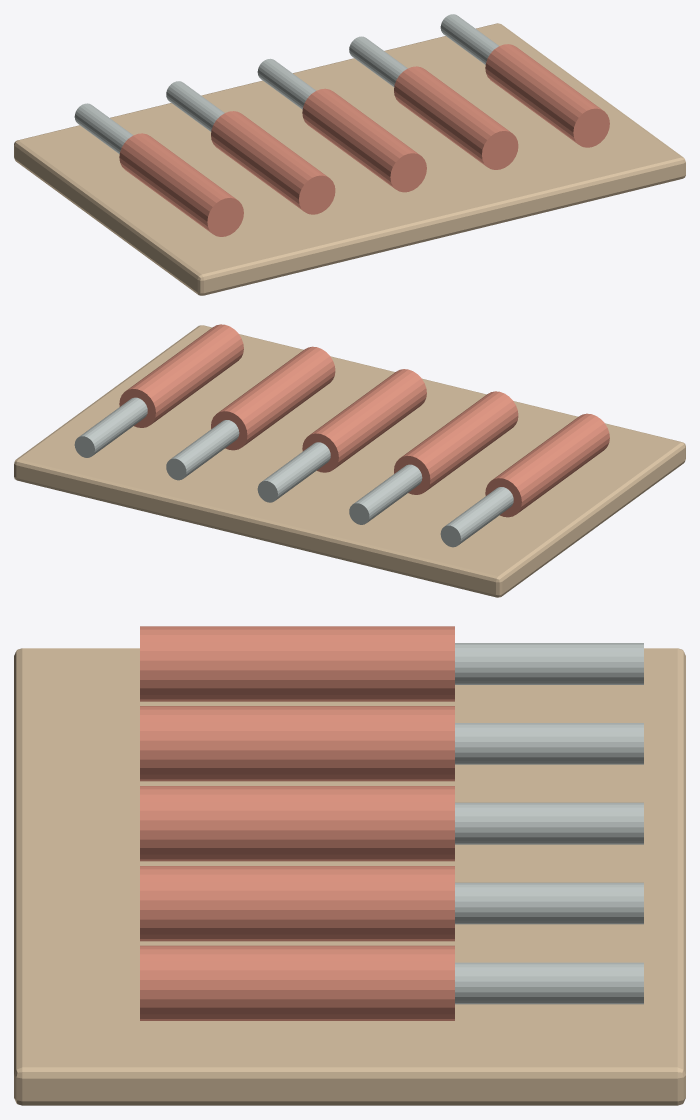
The picture shows the model from 3 angles, top to bottom: view 1: azimuth 30°, elevation 25°; view 2: azimuth 150°, elevation 25°; view 3: azimuth 270°, elevation 25°; orthographic projection. The views are drawn at different scales.
Parts seen in each view (by area): view 1: canvas roll, tool handle, tool handle.004, tool handle.002, tool handle.001, tool handle.003, tool shank.003, tool shank, tool shank.004, tool shank.001, tool shank.002; view 2: canvas roll, tool handle.002, tool handle.004, tool handle, tool handle.001, tool handle.003, tool shank.002, tool shank.001, tool shank.003, tool shank.004, tool shank; view 3: canvas roll, tool handle, tool handle.001, tool handle.002, tool handle.003, tool handle.004, tool shank.002, tool shank.003, tool shank.004, tool shank, tool shank.001.
Boxes of the visible parts, bbox=[...] form: canvas roll: bbox=[14, 23, 685, 295]; tool handle: bbox=[119, 133, 243, 236]; tool handle.004: bbox=[485, 44, 609, 147]; tool handle.002: bbox=[302, 88, 426, 192]; tool handle.001: bbox=[211, 111, 335, 214]; tool handle.003: bbox=[394, 66, 518, 169]; tool shank.003: bbox=[349, 36, 407, 86]; tool shank: bbox=[74, 103, 132, 153]; tool shank.004: bbox=[440, 14, 498, 64]; tool shank.001: bbox=[166, 81, 224, 131]; tool shank.002: bbox=[257, 58, 315, 109]; canvas roll: bbox=[14, 325, 685, 597]; tool handle.002: bbox=[302, 369, 426, 472]; tool handle.004: bbox=[119, 324, 243, 427]; tool handle: bbox=[485, 413, 609, 517]; tool handle.001: bbox=[394, 391, 518, 494]; tool handle.003: bbox=[211, 346, 335, 450]; tool shank.002: bbox=[257, 442, 330, 502]; tool shank.001: bbox=[349, 464, 422, 524]; tool shank.003: bbox=[166, 420, 239, 480]; tool shank.004: bbox=[74, 397, 147, 457]; tool shank: bbox=[440, 487, 513, 547]; canvas roll: bbox=[14, 648, 685, 1105]; tool handle: bbox=[140, 626, 454, 701]; tool handle.001: bbox=[140, 706, 454, 781]; tool handle.002: bbox=[140, 786, 454, 861]; tool handle.003: bbox=[140, 866, 454, 941]; tool handle.004: bbox=[140, 945, 454, 1020]; tool shank.002: bbox=[455, 802, 643, 844]; tool shank.003: bbox=[455, 882, 643, 924]; tool shank.004: bbox=[455, 962, 643, 1004]; tool shank: bbox=[455, 643, 643, 684]; tool shank.001: bbox=[455, 723, 643, 764].
Bounding box in the file's own units: 0.48 × 0.056 × 0.32.
